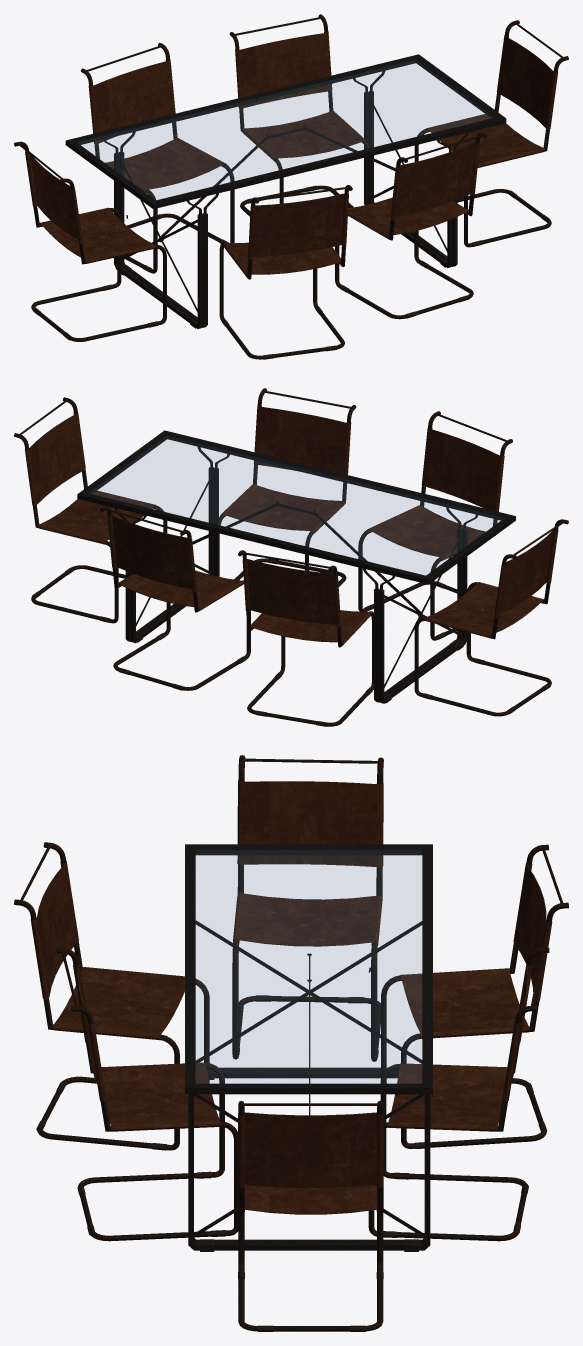
File: dining-set.glb
The picture shows the model from 3 angles, top to bottom: view 1: azimuth 30°, elevation 25°; view 2: azimuth 150°, elevation 25°; view 3: azimuth 270°, elevation 25°; orthographic projection. The views are drawn at different scales.
Visible parts, largest first — view 1: Object_2, Object_3; view 2: Object_2, Object_3; view 3: Object_2, Object_3.
Boxes of the visible parts, x1,y1,x2,y2 form: Object_2: (14, 14, 568, 359); Object_3: (78, 60, 493, 199); Object_2: (14, 388, 568, 726); Object_3: (90, 436, 503, 574); Object_2: (14, 755, 568, 1331); Object_3: (196, 850, 421, 1082).
Size of the model in its own units: 113 by 35.7 by 75.85.
Materials: 2 (1 with a texture image).
